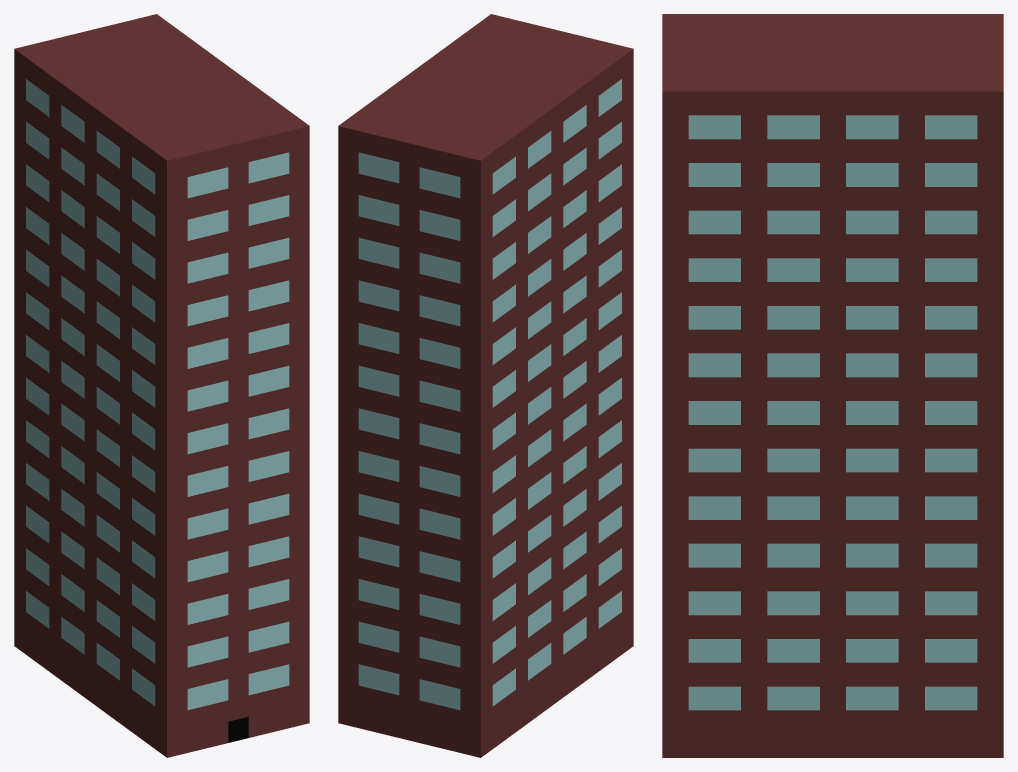
The model's file is bld2.fbx.
3 renders of one model, left to right at view 1: azimuth 30°, elevation 25°; view 2: azimuth 150°, elevation 25°; view 3: azimuth 270°, elevation 25°, orthographic. The views are drawn at different scales.
Visible parts, largest first — view 1: Cube.001; view 2: Cube.001; view 3: Cube.001.
Boxes of the visible parts, box(x1,y1,x2,y2) form: Cube.001: box(14, 14, 309, 757); Cube.001: box(338, 14, 633, 757); Cube.001: box(662, 14, 1003, 757).
Bounding box in the file's own units: 700 × 2800 × 1300.
